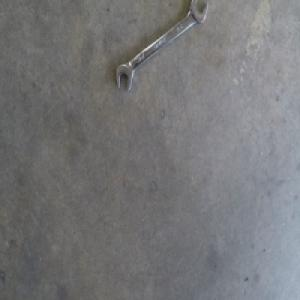Wrench: (116, 0, 208, 91)
